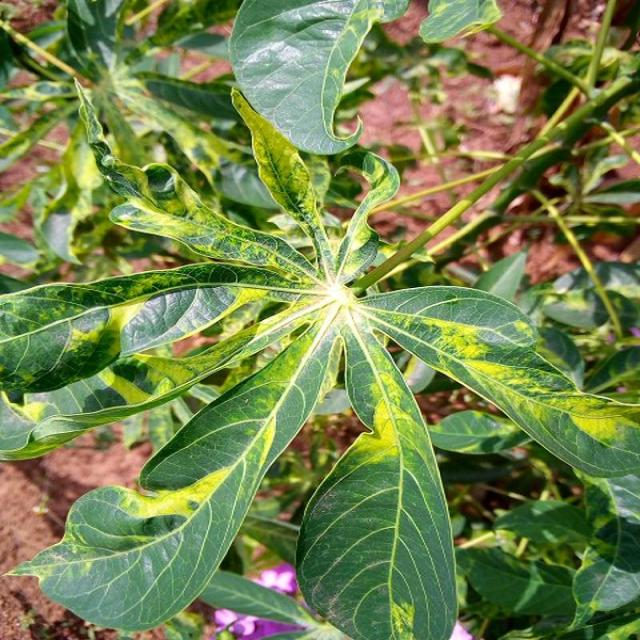cassava leaf: (0, 5, 638, 637), (294, 318, 458, 638), (226, 0, 409, 156)
